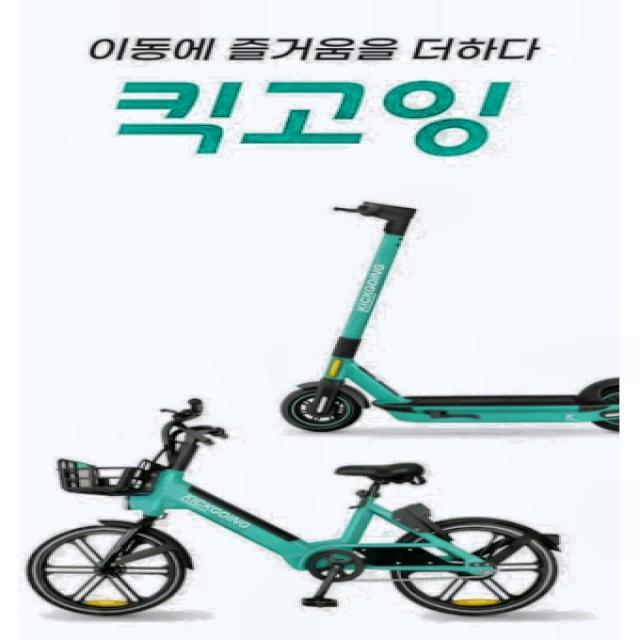bike: (27, 397, 561, 620), (280, 200, 618, 436)
